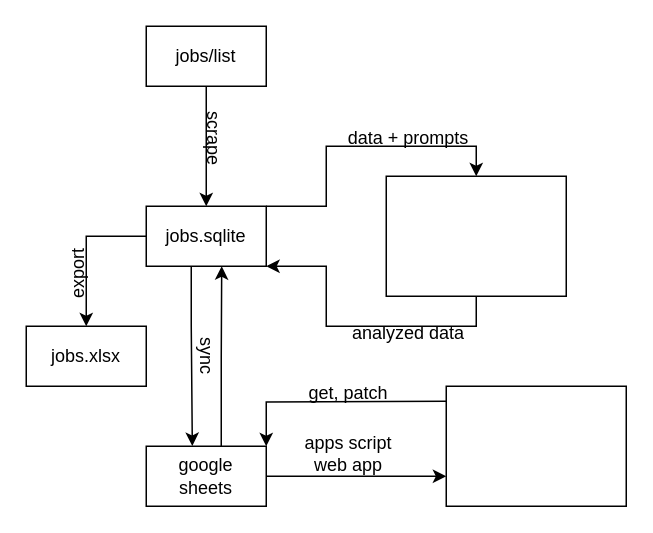
The diagram is 653 pixels wide and 533 high, and some of its shapes have lost their labels. The box of each missing label's shape, as (x1, y1, x2, y2) in pixels:
AI Gemini/Groq: (385, 175, 566, 296)
mobile frontend: (445, 385, 626, 506)
